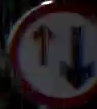Two way: (7, 3, 96, 108)
